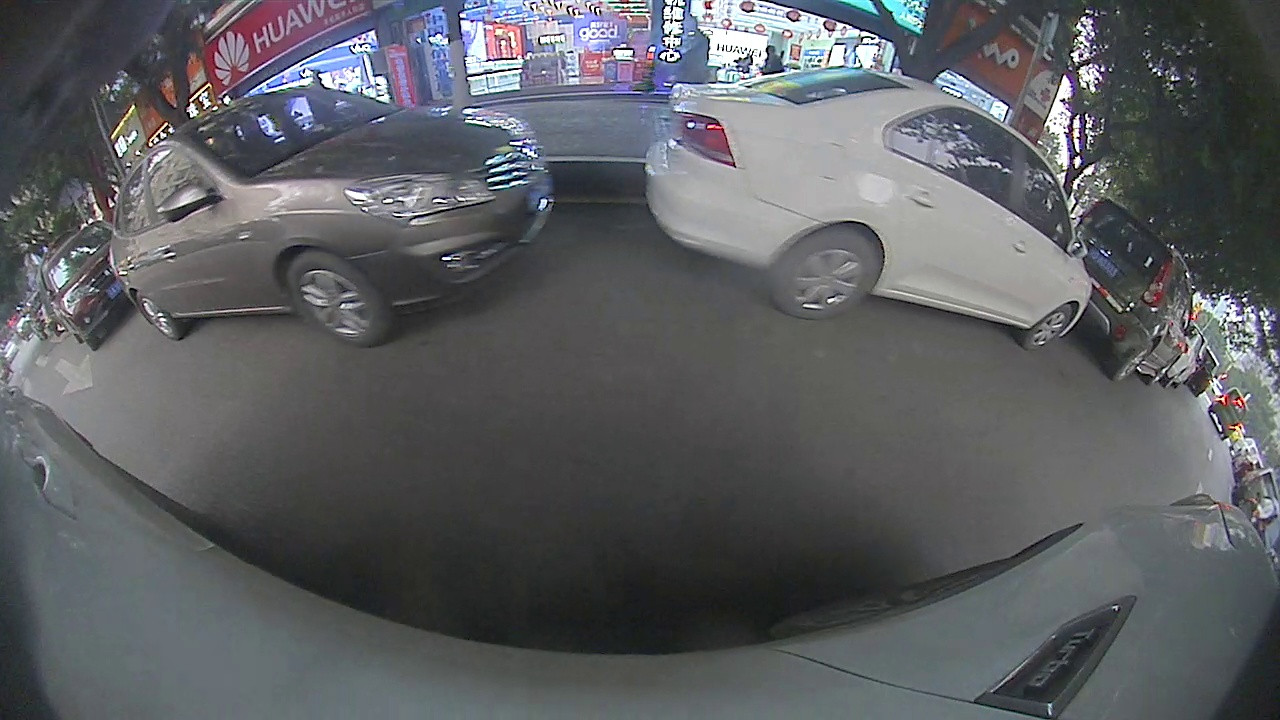car: (643, 63, 1094, 354), (107, 86, 559, 349), (1074, 199, 1202, 389)
front: (288, 252, 387, 347), (1021, 299, 1073, 352)
rear: (774, 230, 881, 322), (136, 293, 184, 341), (1114, 343, 1149, 384)
